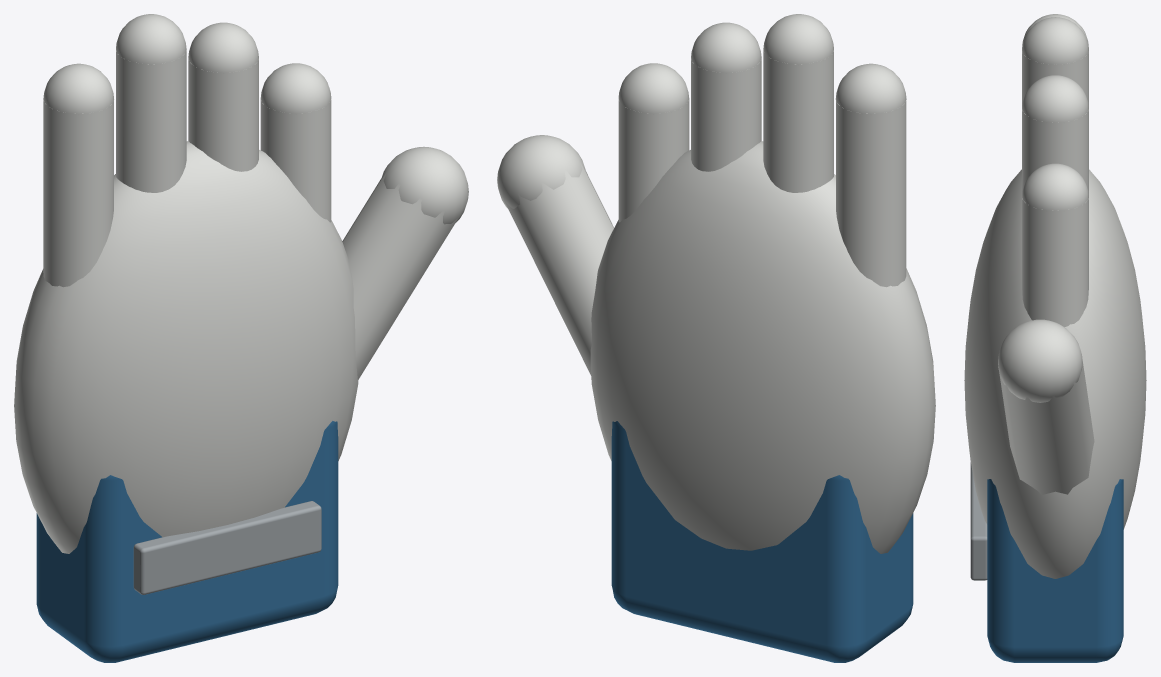
File: fencing-club-and-tournament-piste-glove-a2be6d06__31229.glb
The picture shows the model from 3 angles, left to right: view 1: azimuth 30°, elevation 25°; view 2: azimuth 150°, elevation 25°; view 3: azimuth 270°, elevation 25°; orthographic projection. The views are drawn at different scales.
Visible parts, largest first — view 1: glove; view 2: glove; view 3: glove.
Boxes of the visible parts, box(x1,y1,x2,y2) form: glove: box(14, 14, 468, 662); glove: box(497, 14, 935, 662); glove: box(964, 14, 1146, 662).
Bounding box in the file's own units: 0.156 × 0.21 × 0.06.
